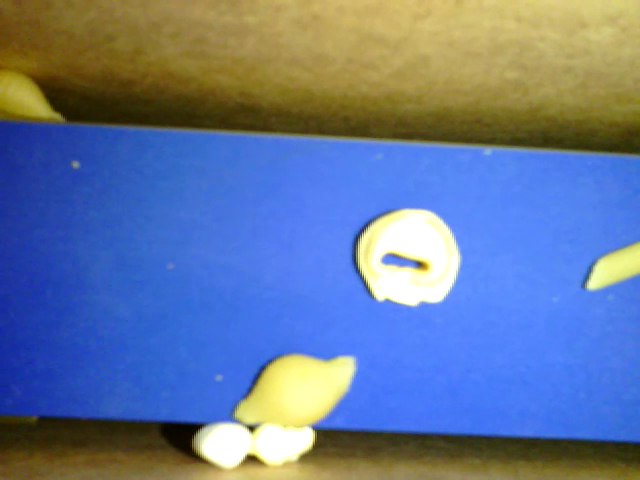penne: (583, 243, 639, 294)
shell: (233, 349, 360, 431), (1, 68, 72, 124)
tortellini: (351, 205, 461, 308)
